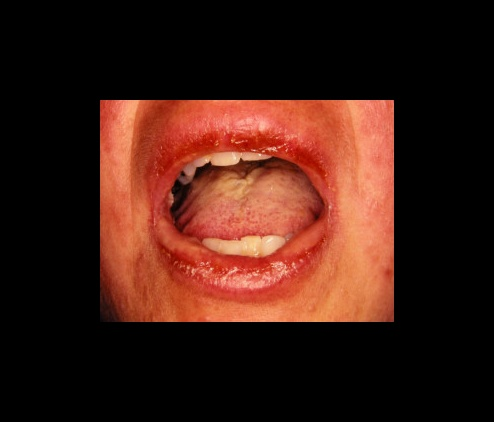SJS-TEN: (98, 100, 394, 322)
